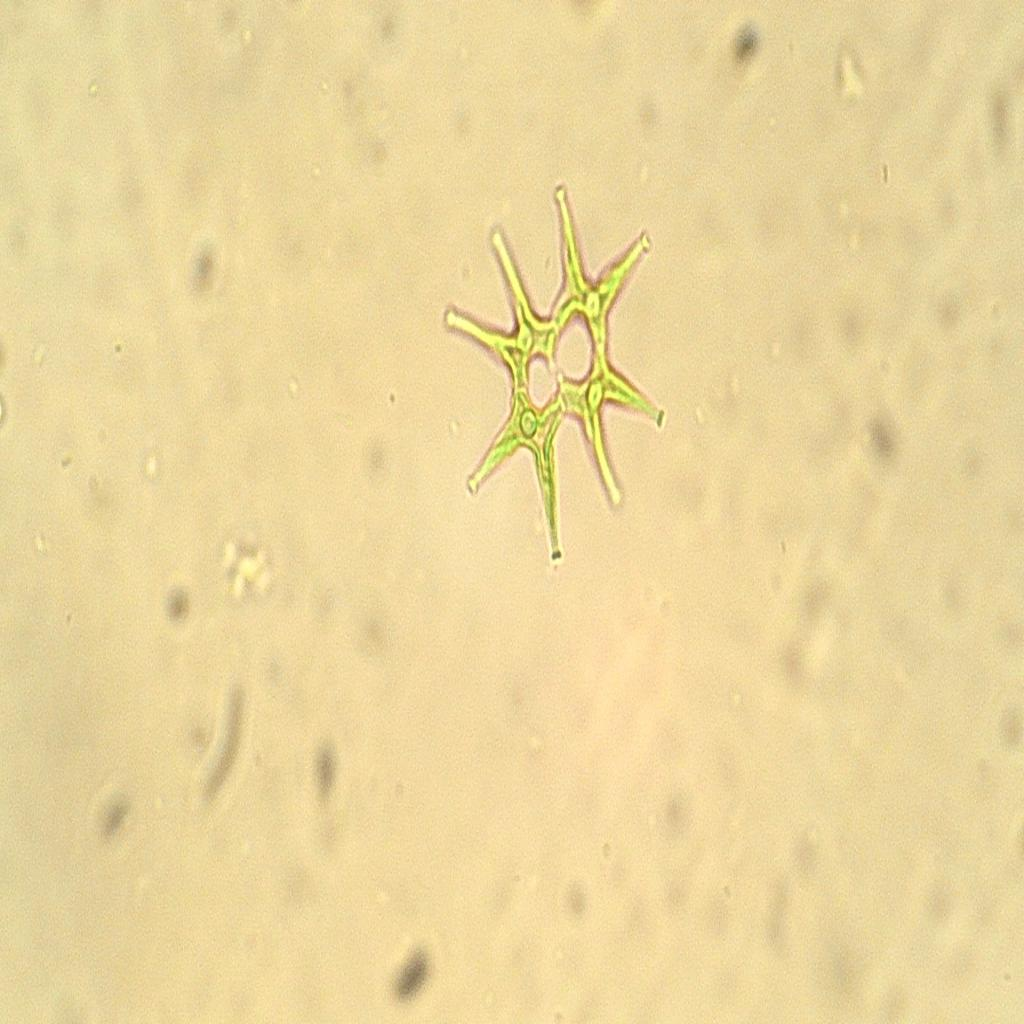Pediastrum_CF: (439, 159, 669, 568)
